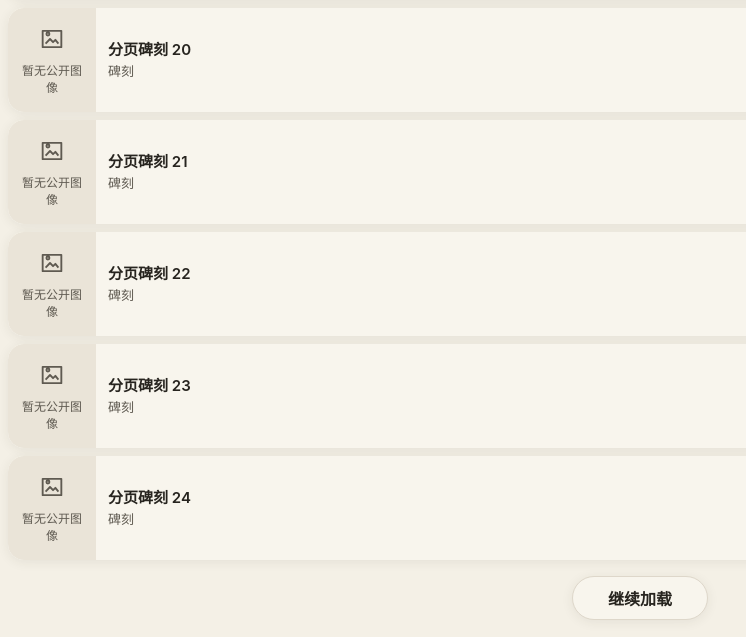
it: CatalogBrowseScreen paging › retains existing rows and exposes manual retry after a next-page failure
(page scrolled)
Click the button "继续加载".
click(640, 598)  # box [572,576,708,620]
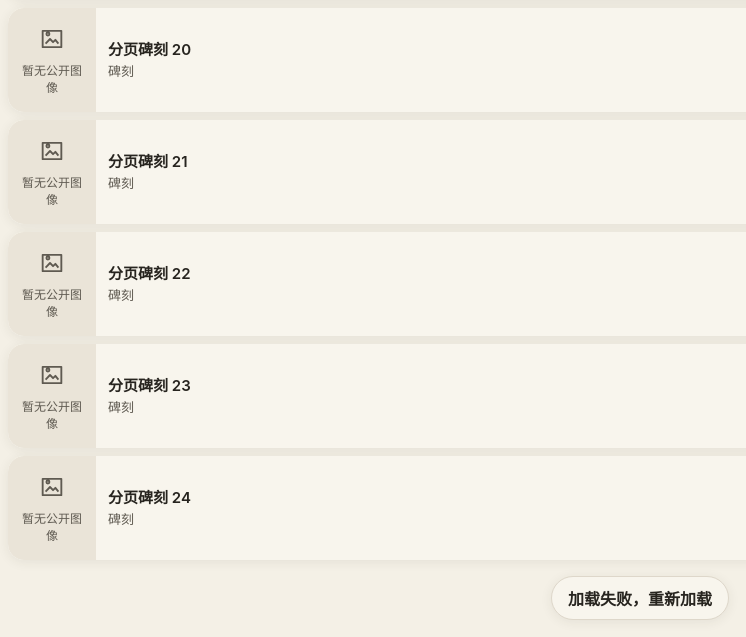
Expected: the button "加载失败，重新加载" is shown, [551,576,729,620]
